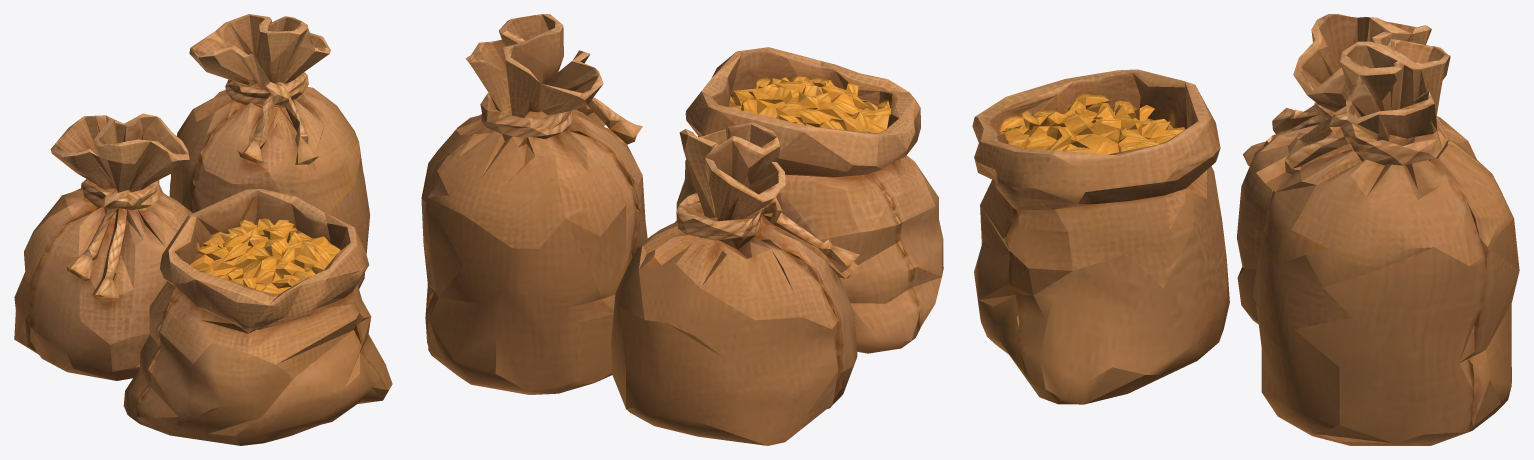
The model's file is prop_sacks.glb.
The picture shows the model from 3 angles, left to right: view 1: azimuth 30°, elevation 25°; view 2: azimuth 150°, elevation 25°; view 3: azimuth 270°, elevation 25°; orthographic projection. The views are drawn at different scales.
Visible parts, largest first — view 1: output_unwrapped; view 2: output_unwrapped; view 3: output_unwrapped.
Part boxes in pixels (x1,y1,x2,y2): output_unwrapped: (14, 14, 392, 445); output_unwrapped: (421, 14, 943, 445); output_unwrapped: (972, 14, 1519, 445).
Bounding box in the file's own units: 1.73 × 1.38 × 1.89.
1 material, 1 textured.
